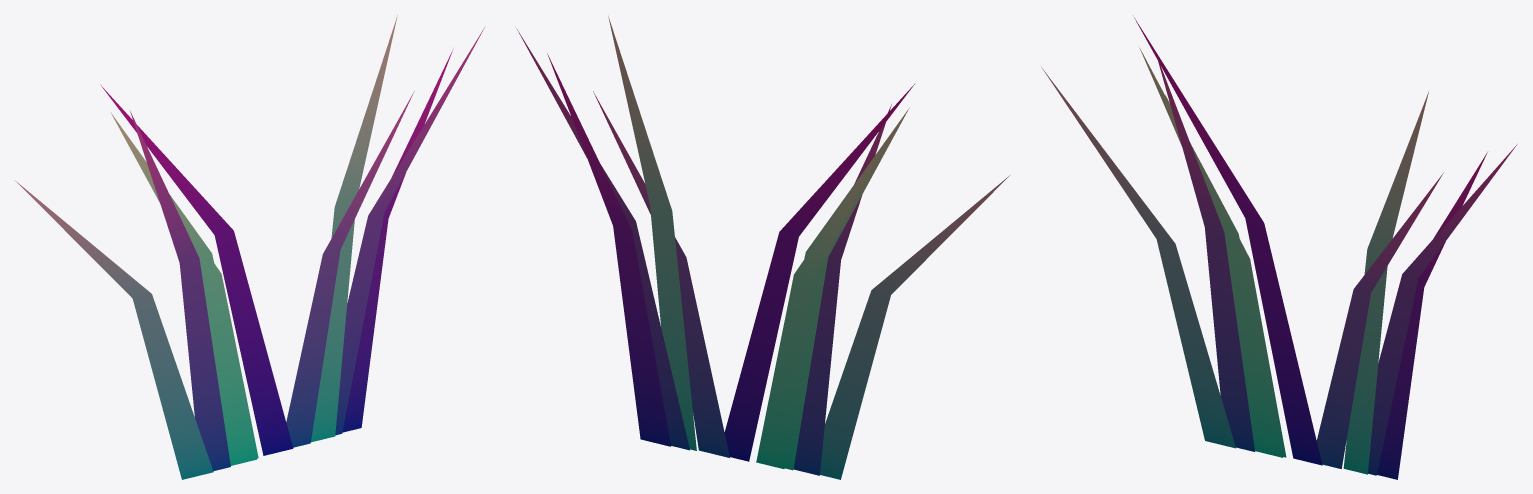
File: grass_clump3.fbx
The picture shows the model from 3 angles, left to right: view 1: azimuth 30°, elevation 25°; view 2: azimuth 150°, elevation 25°; view 3: azimuth 330°, elevation 25°; orthographic projection. The views are drawn at different scales.
Visible parts, largest first — view 1: grass_clump3; view 2: grass_clump3; view 3: grass_clump3.
Part boxes in pixels (bbox=[...]): grass_clump3: bbox=[15, 15, 485, 479]; grass_clump3: bbox=[516, 16, 1009, 479]; grass_clump3: bbox=[1041, 17, 1517, 479].
Size of the model in its own units: 79.75 by 65.5 by 2.4.
